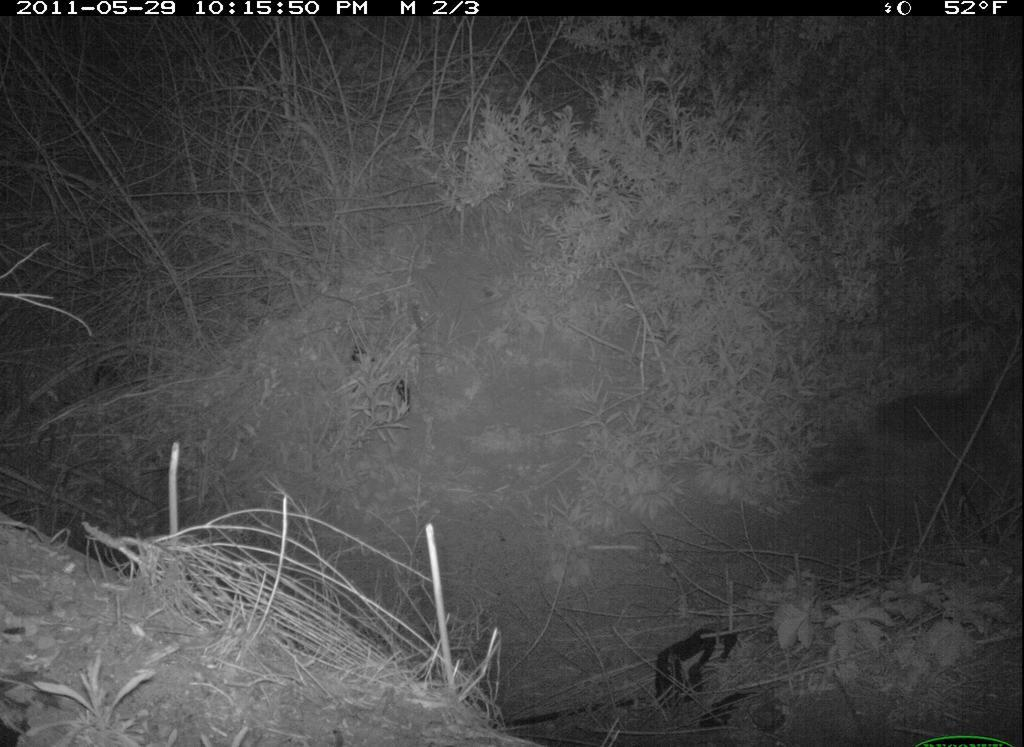coyote: (828, 375, 1024, 486)
